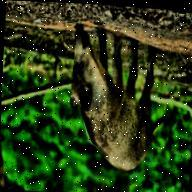boar: (65, 25, 159, 175)
